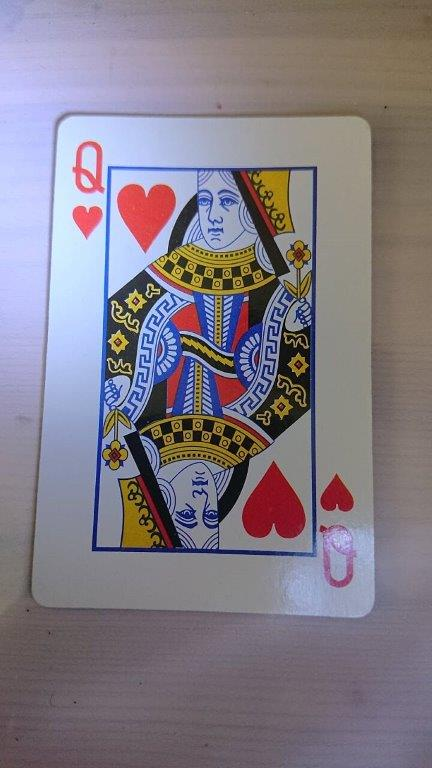QH: (29, 112, 378, 622)
